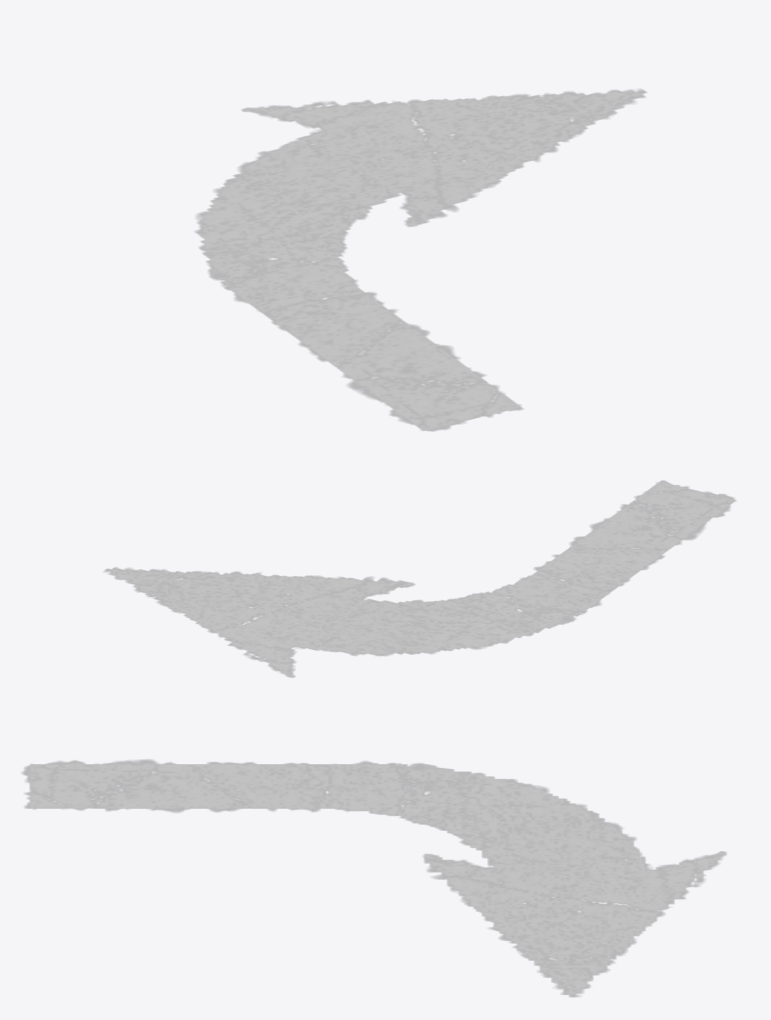
Rendered from Decal_ArrowTurnRight.glb.
3 renders of one model, top to bottom at view 1: azimuth 30°, elevation 25°; view 2: azimuth 150°, elevation 25°; view 3: azimuth 270°, elevation 25°, orthographic. The views are drawn at different scales.
Parts seen in each view (by area): view 1: Decal_ArrowTurnRight; view 2: Decal_ArrowTurnRight; view 3: Decal_ArrowTurnRight.
Boxes of the visible parts, <box> form: Decal_ArrowTurnRight: <box>195,89,646,431</box>; Decal_ArrowTurnRight: <box>104,480,735,677</box>; Decal_ArrowTurnRight: <box>22,759,726,997</box>.
Size of the model in its own units: 1.99 by 0 by 2.5.
1 material, 1 textured.
